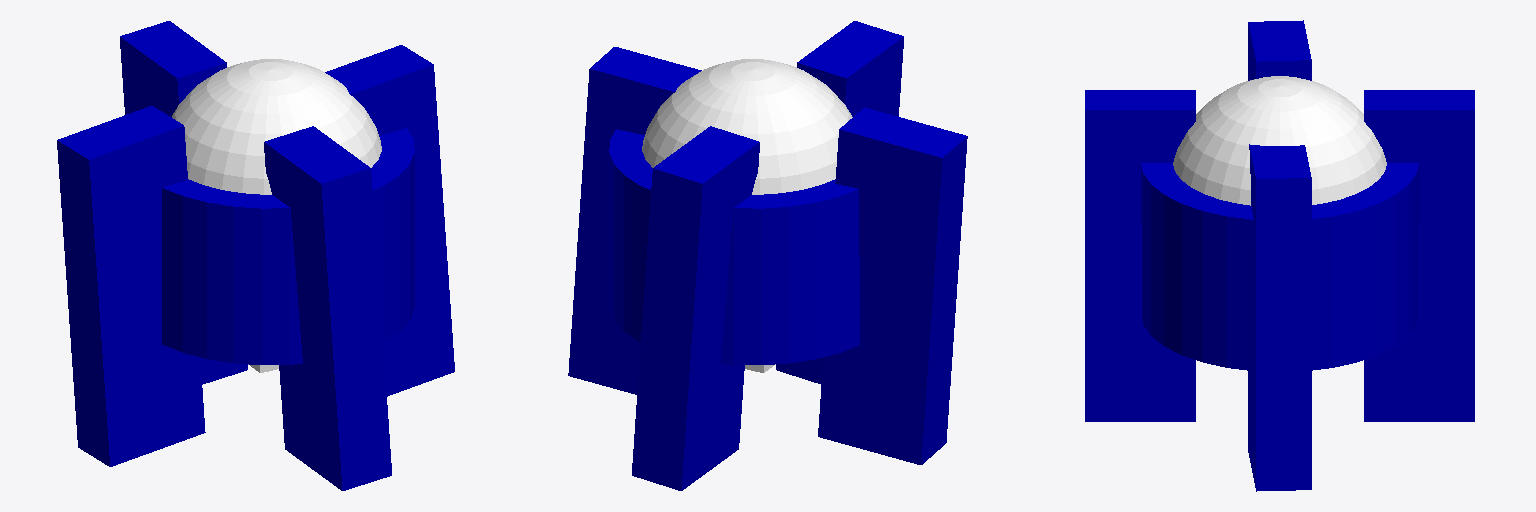
robot.urdf — lander:
<?xml version="1.0"?>
<robot name="lander">
  <link name="base_link"> <!--base is link index: -1 -->
    <visual>
      <geometry>
        <cylinder length="0.3" radius="0.25" />
      </geometry>
      <origin rpy="0 0 0" xyz="0 0 0"/>
      <material name="blue">   
        <color rgba="0 0 .8 1"/>
      </material>   
    </visual>
    <collision>
      <geometry>
        <cylinder length="0.3" radius="0.25"/>
      </geometry>
    </collision>
    <inertial>
      <mass value="0.5"/>
      <inertia ixx="1.0" ixy="0.0" ixz="0.0" iyy="1.0" iyz="0.0" izz="1.0"/>
    </inertial>   
  </link>
  <frame link="base_link" name="body" rpy="0 0 0" xyz="0 0 0" />
  
  <link name="head"> <!-- link index: 0 -->
    <visual>
      <geometry>
        <sphere radius="0.2"/>
      </geometry>
      <origin rpy="0 0 0" xyz="0 0 0"/>
      <material name="white">
        <color rgba="1.0 1.0 1.0 1.0"/>
      </material>
    </visual>
    <collision>
      <geometry>
        <sphere radius="0.2"/>
      </geometry>
    </collision>
    <inertial>
      <mass value="0.5"/>
      <origin rpy="0 0 0" xyz="0 0 0"/>
      <inertia ixx="1.0" ixy="0.0" ixz="0.0" iyy="1.0" iyz="0.0" izz="1.0"/>
    </inertial>
  </link>

  <joint name="head_swivel" type="fixed">
    <parent link="base_link"/>
    <child link="head"/>
    <axis xyz="0 0 1"/>
    <origin xyz="0 0 0.1"/>
<limit effort="1000.0" lower="-0.38" upper="0" velocity="0.5"/>
  </joint>
  
  <link name="propeller_1"> <!-- link index: 1 -->
    <visual>
      <geometry>
        <box size="0.6 0.2 0.1"/>
      </geometry>
      <origin rpy="1.5 1.5 0" xyz="0 0 -0.3"/>
      <material name="blue">
        <color rgba="0 0 .8 1"/>
      </material>
    </visual>
    <collision>
      <geometry>
        <box size="0.6 0.2 0.1"/>
        <!--origin rpy="1.5 1.5 0" xyz="0 0 -0.3"/-->
      </geometry>
      <origin rpy="1.5 1.5 0" xyz="0 0 -0.3"/>
    </collision>
    <inertial>
      <mass value="0.1"/>
      <origin rpy="1.5 1.5 0" xyz="0 0 -0.3"/>
      <inertia ixx="1.0" ixy="0.0" ixz="0.0" iyy="1.0" iyz="0.0" izz="1.0"/>
    </inertial>
  </link>
  
  <joint name="base_to_propeller_1" type="fixed">
    <parent link="base_link"/>
    <child link="propeller_1"/>
    <origin xyz="0.22 0 .25"/>
  </joint>
  
  <link name="propeller_2">  <!-- link index: 2-->
    <visual>
      <geometry>
        <box size="0.6 0.2 0.1"/>
      </geometry>
      <origin rpy="0 1.5 0" xyz="-0.25 0.25 -0.3"/>
      <material name="blue">
        <color rgba="0 0 .8 1"/>
      </material>
    </visual>
    <collision>
      <geometry>
        <box size="0.6 0.2 0.1"/>
      </geometry>
      <origin rpy="0 1.5 0" xyz="-0.25 0.25 -0.3"/>
    </collision>
    <inertial>
      <mass value="0.1"/>
      <origin rpy="0 1.5 0" xyz="-0.25 0.25 -0.3"/>
      <inertia ixx="1.0" ixy="0.0" ixz="0.0" iyy="1.0" iyz="0.0" izz="1.0"/>
    </inertial>
  </link>
  
  <joint name="base_to_propeller_2" type="fixed">
    <parent link="base_link"/>
    <child link="propeller_2"/>
    <origin xyz="0.22 0 .25"/>
  </joint>
  
    <link name="propeller_3">  <!-- link index: 3-->
    <visual>
      <geometry>
        <box size="0.6 0.2 0.1"/>
      </geometry>
      <origin rpy="1.5 1.5 0" xyz="-0.5 0 -0.3"/>
      <material name="blue">
        <color rgba="0 0 .8 1"/>
      </material>
    </visual>
    <collision>
      <geometry>
        <box size="0.6 0.2 0.1"/>
      </geometry>
      <origin rpy="1.5 1.5 0" xyz="-0.5 0.0 -0.3"/>
    </collision>
    <inertial>
      <mass value="0.1"/>
      <origin rpy="1.5 1.5 0" xyz="-0.5 0.0 -0.3"/>
      <inertia ixx="1.0" ixy="0.0" ixz="0.0" iyy="1.0" iyz="0.0" izz="1.0"/>
    </inertial>
  </link>
  
  <joint name="base_to_propeller_3" type="fixed">
    <parent link="base_link"/>
    <child link="propeller_3"/>
    <origin xyz="0.22 0 .25"/>
  </joint>
  
    <link name="propeller_4">  <!-- link index: 4-->
    <visual>
      <geometry>
        <box size="0.6 0.2 0.1"/>
      </geometry>
      <origin rpy="0 1.5 0" xyz="-0.25 -0.25 -0.3"/>
      <material name="blue">
        <color rgba="0 0 .8 1"/>
      </material>
    </visual>
    <collision>
      <geometry>
        <box size="0.4 0.2 0.1"/>
      </geometry>
      <origin rpy="0 1.5 0" xyz="-0.25 -0.25 -0.3"/>
    </collision>
    <inertial>
      <mass value="0.1"/>
      <origin rpy="0 1.5 0" xyz="-0.25 -0.25 -0.3"/>
      <inertia ixx="1.0" ixy="0.0" ixz="0.0" iyy="1.0" iyz="0.0" izz="1.0"/>
    </inertial>
  </link>
  
  <joint name="base_to_propeller_4" type="fixed">
    <parent link="base_link"/>
    <child link="propeller_4"/>
    <origin xyz="0.22 0 .25"/>
  </joint>
  
  <link name="camera_link">  <!-- link index: 5 -->
    <collision>
      <origin rpy="0 0 0" xyz="-0.125 -0.125 -0.2" />
      <geometry>
        <box size="0.05 0.05 0.05" />
      </geometry>
    </collision>
    <visual>
      <origin rpy="0 0 0" xyz="-0.125 -0.125 -0.2" />
      <geometry>
        <box size="0.1 0.1 0.1" />
      </geometry>
      <material name="white" />
    </visual>
    <inertial>
      <mass value="1e-5" />
      <origin rpy="0 0 0" xyz="0.125 0.125 -0.2" />
      <inertia ixx="1e-6" ixy="0" ixz="0" iyy="1e-6" iyz="0" izz="1e-6" />
    </inertial>
  </link>
  
  <joint name="camera_joint" type="fixed">
    <axis xyz="0 0 1" />
    <origin rpy="0 0 0" xyz="0.125 0.125 0" />
    <parent link="base_link"/>
    <child link="camera_link" />
  </joint>


  <force_element name="prop1">
    <propellor lower_limit="0" upper_limit="50" scale_factor_thrust="1.0" scale_factor_moment="-0.0245">
      <parent link="base_link"/>
      <origin xyz="0 0 0"/>
      <axis xyz="0 0 1"/>
    </propellor>
  </force_element>

  <force_element name="prop2">
    <propellor lower_limit="0" upper_limit="50" scale_factor_thrust="1.0" scale_factor_moment="-0.0245">
      <parent link="base_link"/>
      <origin xyz="-0.25 0.25 0"/>
      <axis xyz="0 0 1"/>
    </propellor>
  </force_element>

  <force_element name="prop3">
    <propellor lower_limit="0" upper_limit="50" scale_factor_thrust="1.0" scale_factor_moment="-0.0245">
      <parent link="base_link"/>
      <origin xyz="-0.5 0 0"/>
      <axis xyz="0 0 1"/>
    </propellor>
  </force_element>

  <force_element name="prop4">
    <propellor lower_limit="0" upper_limit="50" scale_factor_thrust="1.0" scale_factor_moment="-0.0245">
      <parent link="base_link"/>
      <origin xyz="-0.25 -0.25 0"/>
      <axis xyz="0 0 1"/>
    </propellor>
  </force_element>
  

</robot>

--- Render facts (derived) ---
3 views of the same robot in one strip: view 1: azimuth 30°, elevation 25°; view 2: azimuth 150°, elevation 25°; view 3: azimuth 270°, elevation 25° (orthographic).
Model lander with 7 links and 6 joints (6 fixed), rooted at base_link, posed every joint at zero.
Visible links, largest first — view 1: propeller_3, propeller_4, base_link, head, propeller_1, propeller_2; view 2: propeller_3, propeller_2, base_link, head, propeller_1, propeller_4; view 3: base_link, propeller_2, propeller_4, propeller_1, head, propeller_3.
Boxes of the visible links, bbox=[...] form: propeller_3: bbox=[57, 106, 205, 466]; propeller_4: bbox=[264, 126, 391, 490]; base_link: bbox=[162, 128, 414, 364]; head: bbox=[172, 59, 381, 194]; propeller_1: bbox=[325, 45, 454, 396]; propeller_2: bbox=[120, 21, 247, 384]; propeller_3: bbox=[818, 107, 967, 464]; propeller_2: bbox=[632, 126, 759, 490]; base_link: bbox=[609, 129, 859, 364]; head: bbox=[642, 59, 852, 194]; propeller_1: bbox=[568, 47, 701, 394]; propeller_4: bbox=[776, 21, 903, 384]; base_link: bbox=[1141, 163, 1418, 370]; propeller_2: bbox=[1364, 90, 1474, 421]; propeller_4: bbox=[1085, 90, 1195, 421]; propeller_1: bbox=[1248, 144, 1311, 491]; head: bbox=[1173, 76, 1386, 205]; propeller_3: bbox=[1248, 20, 1311, 80].
Bounding box of the posed robot: 0.7485 × 0.7 × 0.6566 m (x, y, z).
Geometry: primitives only (box / cylinder / sphere), no mesh files.